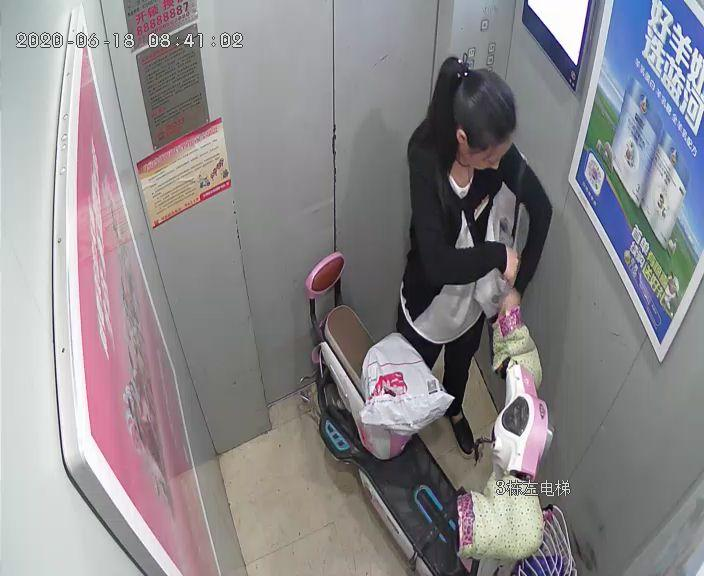Electric-bicycle: (295, 248, 575, 575)
